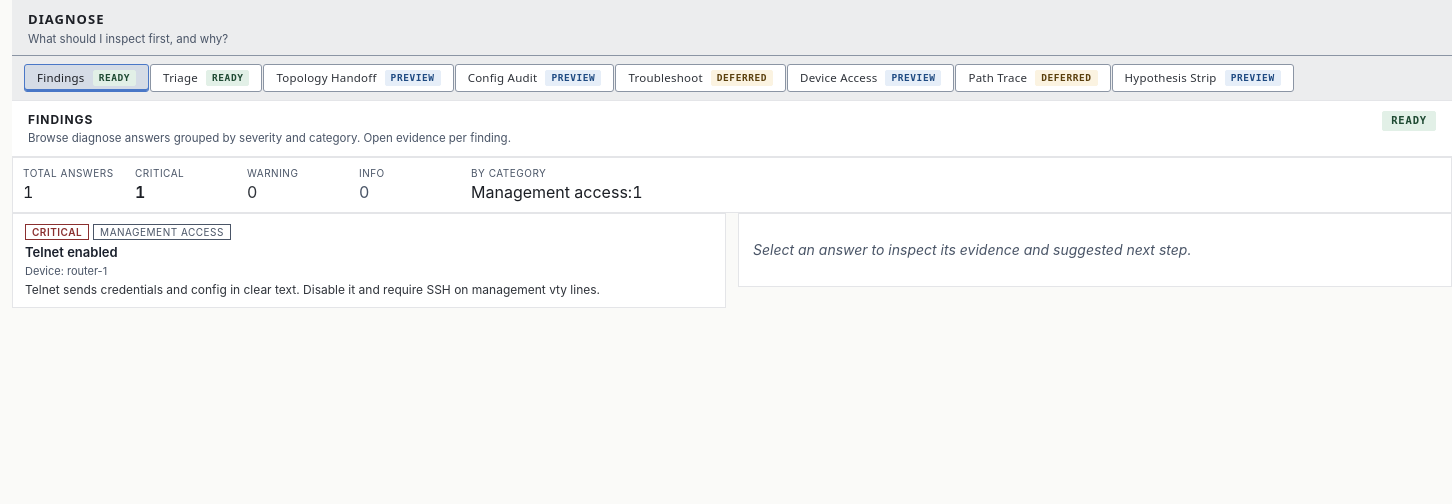
Test: DiagnoseMode — render › clicking an answer opens inspector with evidence + suggested target
Expected: the text with test id "dx-inspector-empty" is shown, [753,241,1191,258]
Click the button with test id "dx-answer-management_access:telnet_enabled:rec-1".
click(57, 232)  # box [12,213,726,308]
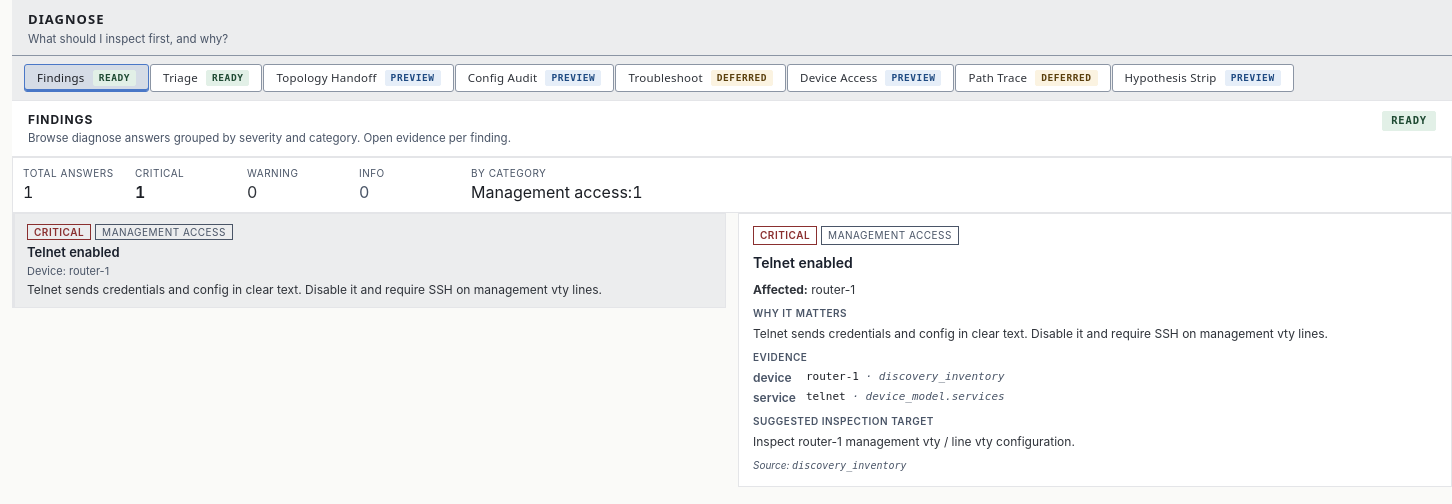
Now the heading with test id "dx-inspector-title" reads "Telnet enabled", box [753,254,853,271]
Now the element with test id "dx-inspector-affected" shows "router-1", box [811,282,855,297]
Now the text with test id "dx-inspector-target" shows "management vty", box [753,434,1075,449]
